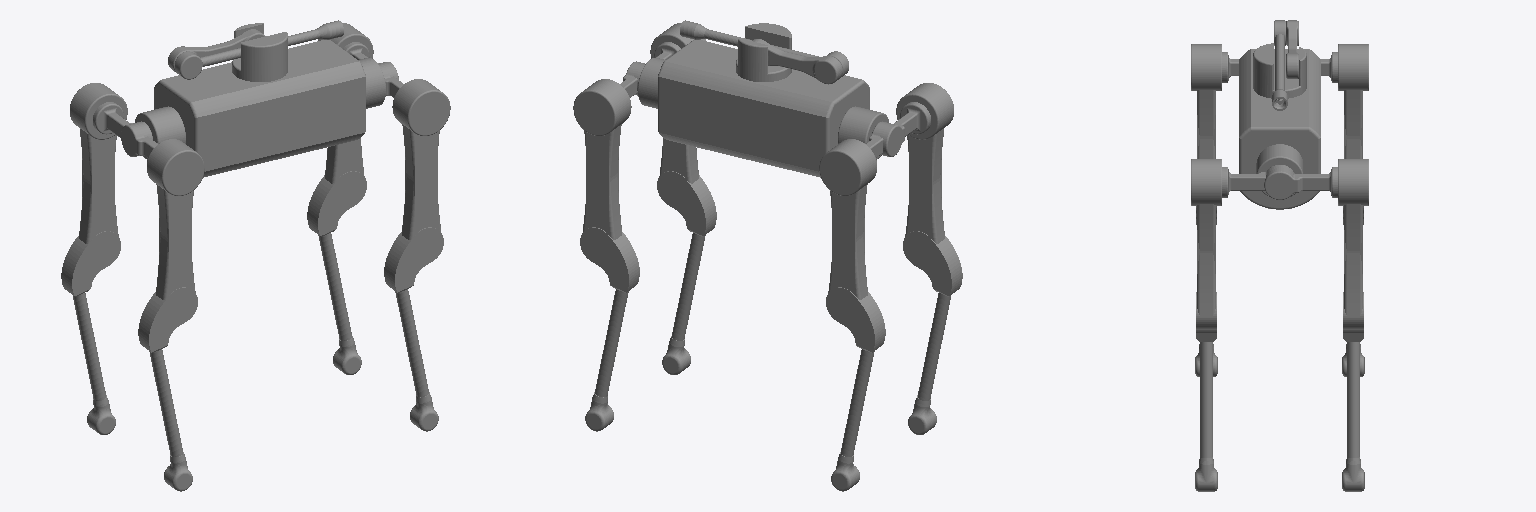
--- Facts derived from the render (not from the file) ---
Views: 3 orthographic renders of the robot side by side, from view 1: azimuth 30°, elevation 25°; view 2: azimuth 150°, elevation 25°; view 3: azimuth 270°, elevation 25°.
Model argos with 25 links and 24 joints (12 revolute, 12 fixed), rooted at base_link, posed all joints at 0.
Links seen in each view (by area): view 1: base_link, RF_lower_leg, RH_lower_leg, LF_lower_leg, LH_lower_leg, LH_upper_leg, RH_upper_leg, RF_upper_leg, RH_leg_roll, RF_leg_roll, LH_leg_roll, manipulator_base (+4 smaller); view 2: base_link, LF_lower_leg, LH_lower_leg, RF_lower_leg, RH_lower_leg, RH_upper_leg, LH_upper_leg, LF_upper_leg, RH_leg_roll, LH_leg_roll, LF_leg_roll, manipulator_base (+4 smaller); view 3: base_link, LF_leg_roll, LF_lower_leg, RF_lower_leg, RF_leg_roll, LF_upper_leg, RF_upper_leg, LH_leg_roll, RH_leg_roll, manipulator_base, LH_upper_leg, RH_upper_leg (+2 smaller).
Link boxes in pixels (x1=…): base_link: x1=135, y1=40, x2=385, y2=177; RF_lower_leg: x1=384, y1=227, x2=443, y2=431; RH_lower_leg: x1=138, y1=287, x2=197, y2=491; LF_lower_leg: x1=307, y1=171, x2=366, y2=374; LH_lower_leg: x1=61, y1=231, x2=120, y2=434; LH_upper_leg: x1=79, y1=129, x2=118, y2=243; RH_upper_leg: x1=156, y1=184, x2=195, y2=299; RF_upper_leg: x1=402, y1=124, x2=440, y2=239; RH_leg_roll: x1=121, y1=123, x2=204, y2=195; RF_leg_roll: x1=379, y1=63, x2=450, y2=135; LH_leg_roll: x1=70, y1=83, x2=152, y2=139; manipulator_base: x1=232, y1=23, x2=287, y2=81; base_link: x1=638, y1=40, x2=888, y2=177; LF_lower_leg: x1=580, y1=227, x2=639, y2=431; LH_lower_leg: x1=826, y1=287, x2=885, y2=491; RF_lower_leg: x1=657, y1=171, x2=716, y2=374; RH_lower_leg: x1=903, y1=231, x2=962, y2=434; RH_upper_leg: x1=905, y1=129, x2=944, y2=243; LH_upper_leg: x1=828, y1=184, x2=867, y2=299; LF_upper_leg: x1=583, y1=124, x2=621, y2=239; RH_leg_roll: x1=880, y1=83, x2=953, y2=156; LH_leg_roll: x1=819, y1=121, x2=888, y2=195; LF_leg_roll: x1=573, y1=61, x2=642, y2=135; manipulator_base: x1=736, y1=23, x2=791, y2=81; base_link: x1=1239, y1=49, x2=1320, y2=209; LF_leg_roll: x1=1264, y1=159, x2=1368, y2=205; LF_lower_leg: x1=1342, y1=292, x2=1364, y2=491; RF_lower_leg: x1=1195, y1=292, x2=1217, y2=491; RF_leg_roll: x1=1191, y1=159, x2=1294, y2=205; LF_upper_leg: x1=1344, y1=204, x2=1362, y2=316; RF_upper_leg: x1=1197, y1=204, x2=1215, y2=316; LH_leg_roll: x1=1321, y1=44, x2=1368, y2=90; RH_leg_roll: x1=1191, y1=44, x2=1238, y2=90; manipulator_base: x1=1253, y1=43, x2=1306, y2=98; LH_upper_leg: x1=1344, y1=90, x2=1362, y2=158; RH_upper_leg: x1=1197, y1=90, x2=1215, y2=158.
Bounding box of the posed robot: 1.05 × 0.5666 × 1.32 m (x, y, z).
Meshes: 8 distinct files referenced, 16 mesh visuals loaded (7 Collada DAE); not drawn: 1 (reference not matched to a file when rendering).

URDF robot description (argos):
<?xml version="1.0" ?>
<!-- =================================================================================== -->
<!-- |    This document was autogenerated by xacro from argos_depth.urdf.xacro         | -->
<!-- |    EDITING THIS FILE BY HAND IS NOT RECOMMENDED                                 | -->
<!-- =================================================================================== -->
<robot name="argos">
  <link name="base_link">
    <visual>
      <geometry>
        <mesh filename="package://mini_project/meshes/body.dae" scale="0.001 0.001 0.001"/>
      </geometry>
      <origin rpy="1.570796326794895 0 0" xyz="0.0 0.0 0.0"/>
    </visual>
    <collision>
      <geometry>
        <mesh filename="package://mini_project/meshes/body.dae" scale="0.001 0.001 0.001"/>
      </geometry>
      <origin rpy="1.570796326794895 0 0" xyz="0.0 0.0 0.0"/>
    </collision>
  </link>
  <link name="base_inertia">
    <inertial>
      <origin xyz="0 0 -0.00722624877"/>
      <mass value="44.88560357849"/>
      <inertia ixx="0.4733117048862877" ixy="-1.187694189e-08" ixz="3e-17" iyy="1.9296460018476334" iyz="-2e-17" izz="1.8898459005293233"/>
    </inertial>
  </link>
  <joint name="base_link_to_base_inertia" type="fixed">
    <parent link="base_link"/>
    <child link="base_inertia"/>
    <origin rpy="0 0 0" xyz="0 0 0"/>
  </joint>
  <material name="zed_mat">
    <color rgba="0.8 0.8 0.8 0.8"/>
  </material>
  <material name="zedm_mat">
    <color rgba="0 0 0 0.9"/>
  </material>
  <material name="zed2_mat">
    <color rgba="0.25 0.25 0.25 0.99"/>
  </material>
  <material name="zed2i_mat">
    <color rgba="0.25 0.25 0.25 0.99"/>
  </material>
  <!-- Arguments -->
  <!-- Camera Center -->
  <joint name="camera_center_joint" type="fixed">
    <parent link="base_link"/>
    <child link="camera_center"/>
    <origin rpy="0.0 0.0 0.0" xyz="0.31 0.0 -0.14"/>
  </joint>
  <link name="camera_center">
    <visual>
      <origin rpy="0 0 0" xyz="0 0 0"/>
      <geometry>
        <mesh filename="package://mini_project/meshes/zed2.stl"/>
      </geometry>
      <material name="zed2_mat"/>
    </visual>
  </link>
  <!-- Left Camera -->
  <joint name="left_camera_joint" type="fixed">
    <parent link="camera_center"/>
    <child link="left_camera_frame"/>
    <origin rpy="0 0 0" xyz="0 0.06 0"/>
  </joint>
  <link name="left_camera_frame"/>
  <joint name="left_camera_optical_joint" type="fixed">
    <origin rpy="-1.5707963267948966 0.0 -1.5707963267948966" xyz="0 0 0"/>
    <parent link="left_camera_frame"/>
    <child link="left_camera_optical_frame"/>
  </joint>
  <link name="left_camera_optical_frame"/>
  <gazebo reference="left_camera_frame">
    <sensor name="openni_camera_camera" type="depth">
      <always_on>1</always_on>
      <visualize>true</visualize>
      <camera>
        <horizontal_fov>1.91986218</horizontal_fov>
        <vertical_fov>1.22173048</vertical_fov>
        <diagonal_fov>2.0943951</diagonal_fov>
        <image>
          <width>1920</width>
          <height>1080</height>
          <format>R8G8B8</format>
        </image>
        <clip>
          <near>0.1</near>
          <far>25.0</far>
        </clip>
      </camera>
      <plugin filename="libgazebo_ros_openni_kinect.so" name="camera_plugin">
        <robotNamespace>argos</robotNamespace>
        <baseline>0.2</baseline>
        <alwaysOn>true</alwaysOn>
        <!-- Keep this zero, update_rate in the parent <sensor> tag
                will control the frame rate. -->
        <updateRate>0.0</updateRate>
        <cameraName>depth_camera</cameraName>
        <imageTopicName>/depth/image_rect_color</imageTopicName>
        <cameraInfoTopicName>/argos/depth/camera_info </cameraInfoTopicName>
        <depthImageTopicName>/argos/depth/depth_registered</depthImageTopicName>
        <depthImageCameraInfoTopicName>/argos/depth/image_raw/camera_info</depthImageCameraInfoTopicName>
        <pointCloudTopicName>/argos/depth/point_cloud/cloud_registered </pointCloudTopicName>
        <frameName>left_camera_optical_frame</frameName>
        <pointCloudCutoff>0.4</pointCloudCutoff>
        <!-- does nothing it seems
            <pointCloudCutoffMax>20.0</pointCloudCutoffMax> -->
        <distortionK1>0</distortionK1>
        <distortionK2>0</distortionK2>
        <distortionK3>0</distortionK3>
        <distortionT1>0</distortionT1>
        <distortionT2>0</distortionT2>
        <CxPrime>0</CxPrime>
        <Cx>0</Cx>
        <Cy>0</Cy>
        <focalLength>0</focalLength>
        <hackBaseline>0</hackBaseline>
      </plugin>
    </sensor>
    <sensor name="stereo_camera" type="multicamera">
      <update_rate>30.0</update_rate>
      <camera name="left">
        <horizontal_fov>1.91986218</horizontal_fov>
        <vertical_fov>1.22173048</vertical_fov>
        <diagonal_fov>2.0943951</diagonal_fov>
        <image>
          <width>1920</width>
          <height>1080</height>
          <format>R8G8B8</format>
        </image>
        <clip>
          <near>0.02</near>
          <far>300</far>
        </clip>
        <noise>
          <type>gaussian</type>
          <mean>0.0</mean>
          <stddev>0.004</stddev>
        </noise>
      </camera>
      <camera name="right">
        <pose>0 -0.12 0 0 0 0</pose>
        <horizontal_fov>1.91986218</horizontal_fov>
        <vertical_fov>1.22173048</vertical_fov>
        <diagonal_fov>2.0943951</diagonal_fov>
        <image>
          <width>1920</width>
          <height>1080</height>
          <format>R8G8B8</format>
        </image>
        <clip>
          <near>0.02</near>
          <far>300</far>
        </clip>
        <noise>
          <type>gaussian</type>
          <mean>0.0</mean>
          <stddev>0.004</stddev>
        </noise>
      </camera>
      <plugin filename="libgazebo_ros_multicamera.so" name="stereo_camera_controller">
        <robotNamespace>argos</robotNamespace>
        <alwaysOn>true</alwaysOn>
        <updateRate>0.0</updateRate>
        <cameraName>camera</cameraName>
        <imageTopicName>image_raw</imageTopicName>
        <cameraInfoTopicName>camera_info</cameraInfoTopicName>
        <frameName>left_camera_optical_frame</frameName>
        <!--<rightFrameName>right_camera_optical_frame</rightFrameName>-->
        <hackBaseline>0.12</hackBaseline>
        <distortionK1>0.0</distortionK1>
        <distortionK2>0.0</distortionK2>
        <distortionK3>0.0</distortionK3>
        <distortionT1>0.0</distortionT1>
        <distortionT2>0.0</distortionT2>
      </plugin>
    </sensor>
  </gazebo>
  <gazebo>
    <plugin filename="libhector_gazebo_ros_imu.so" name="imu_controller">
      <updateRate>50.0</updateRate>
      <bodyName>imu_link</bodyName>
      <topicName>imu/data</topicName>
      <accelDrift>0.005 0.005 0.005</accelDrift>
      <frameId>argos/base_link</frameId>
      <accelGaussianNoise>0.005 0.005 0.005</accelGaussianNoise>
      <rateDrift>0.005 0.005 0.005 </rateDrift>
      <rateGaussianNoise>0.005 0.005 0.005 </rateGaussianNoise>
      <headingDrift>0.005</headingDrift>
      <headingGaussianNoise>0.005</headingGaussianNoise>
    </plugin>
  </gazebo>
  <link name="imu_link">
    <inertial>
      <mass value="0.001"/>
      <origin rpy="0 0 0" xyz="0 0 0"/>
      <inertia ixx="1e-09" ixy="0.0" ixz="0.0" iyy="1e-09" iyz="0.0" izz="1e-09"/>
    </inertial>
  </link>
  <joint name="imu_joint" type="fixed">
    <parent link="base_link"/>
    <child link="imu_link"/>
    <origin xyz="0.31 0.0 -0.12"/>
  </joint>
  <gazebo reference="base_link">
    <material>Gazebo/FlatBlack</material>
  </gazebo>
  <link name="LF_leg_roll">
    <inertial>
      <origin rpy="0 0 0" xyz="0.0016034699 0.19560047521 0.0"/>
      <mass value="2.33840380361"/>
      <inertia ixx="0.01771591024567954" ixy="-0.00071891013320325" ixz="5.15073e-11" iyy="0.00540298667216859" iyz="1.6635487e-10" izz="0.01761332943089841"/>
    </inertial>
    <visual>
      <geometry>
        <mesh filename="package://mini_project/meshes/thigh.dae" scale="0.001 0.001 0.001"/>
      </geometry>
      <origin rpy="1.570796326794895 0.0 1.570796326794895" xyz="0.0 0.0 0.0"/>
    </visual>
    <collision>
      <geometry>
        <mesh filename="package://mini_project/meshes/thigh.dae" scale="0.001 0.001 0.001"/>
      </geometry>
      <origin rpy="1.570796326794895 0.0 1.570796326794895" xyz="0.0 0.0 0.0"/>
    </collision>
  </link>
  <gazebo reference="LF_leg_roll">
    <material>Gazebo/Orange</material>
  </gazebo>
  <link name="LF_upper_leg">
    <inertial>
      <origin rpy="1.570796326794895 0 1.570796326794895" xyz="-1.2465e-07 8.927e-08 -0.19777343169"/>
      <mass value="2.90604711841"/>
      <inertia ixx="0.07057863001314926" ixy="2.7932686e-10" ixz="-3.7129365e-10" iyy="0.07214686311642775" iyz="-6.9735152e-09" izz="0.0031329294799625"/>
    </inertial>
    <visual>
      <geometry>
        <mesh filename="package://mini_project/meshes/upper_leg.dae" scale="0.001 0.001 0.001"/>
      </geometry>
      <origin rpy="1.570796326794895 -1.570796326794895 0" xyz="0.0 0.0 0.0"/>
    </visual>
    <collision>
      <geometry>
        <mesh filename="package://mini_project/meshes/upper_leg.dae" scale="0.001 0.001 0.001"/>
      </geometry>
      <origin rpy="1.570796326794895 -1.570796326794895 0" xyz="0.0 0.0 0.0"/>
    </collision>
  </link>
  <gazebo reference="LF_upper_leg">
    <material>Gazebo/Green</material>
  </gazebo>
  <link name="LF_lower_leg">
    <inertial>
      <origin rpy="0 -0.2 0" xyz="-0.05466888228 2.713e-08 -0.15386388146"/>
      <mass value="1.81736381294"/>
      <inertia ixx="0.0907939555791539" ixy="-1.255242645e-08" ixz="0.01304754928405628" iyy="0.0951071480397549" iyz="-6.39667712e-09" izz="0.00552232540194871"/>
    </inertial>
    <visual>
      <geometry>
        <mesh filename="package://mini_project/meshes/lower_leg.dae" scale="0.001 0.001 0.001"/>
      </geometry>
      <origin rpy="1.570796326794895 1.370796326794895 0" xyz="0 0.0 0"/>
    </visual>
    <collision>
      <geometry>
        <mesh filename="package://mini_project/meshes/lower_leg.dae" scale="0.001 0.001 0.001"/>
      </geometry>
      <origin rpy="1.570796326794895 1.370796326794895 0" xyz="0 0.0 0"/>
    </collision>
  </link>
  <gazebo reference="LF_lower_leg">
    <kp>100000.0</kp>
    <kd>1.0</kd>
    <mu1>1.0</mu1>
    <mu2>1.0</mu2>
    <maxVel>0.0</maxVel>
    <minDepth>0.001</minDepth>
    <material>Gazebo/Red</material>
  </gazebo>
  <link name="LF_foot"/>
  <joint name="LF_hip_joint" type="revolute">
    <parent link="base_link"/>
    <child link="LF_leg_roll"/>
    <axis xyz="1.0 0.0 0.0"/>
    <origin xyz="0.43 0.0 0.0"/>
    <limit effort="250" lower="-3.14159265358979" upper="3.14159265358979" velocity="5.0"/>
  </joint>
  <joint name="LF_upper_leg_joint" type="revolute">
    <parent link="LF_leg_roll"/>
    <child link="LF_upper_leg"/>
    <axis xyz="0.0 1.0  0.0"/>
    <origin xyz="0.0 0.233 0.0"/>
    <limit effort="250" lower="-3.14159265358979" upper="3.14159265358979" velocity="5.0"/>
  </joint>
  <joint name="LF_lower_leg_joint" type="revolute">
    <parent link="LF_upper_leg"/>
    <child link="LF_lower_leg"/>
    <axis xyz="0.0 1.0  0.0"/>
    <origin xyz="0.0 0.0 -0.45"/>
    <limit effort="250" lower="-3.14159265358979" upper="3.14159265358979" velocity="2.0"/>
  </joint>
  <joint name="LF_foot_joint" type="fixed">
    <parent link="LF_lower_leg"/>
    <child link="LF_foot"/>
    <origin xyz="0.0 0.0 -0.61"/>
  </joint>
  <gazebo reference="LF_hip_joint">
    <provideFeedback>true</provideFeedback>
  </gazebo>
  <gazebo reference="LF_upper_leg_joint">
    <provideFeedback>true</provideFeedback>
  </gazebo>
  <gazebo reference="LF_lower_leg_joint">
    <provideFeedback>true</provideFeedback>
  </gazebo>
  <transmission name="LF_hip_joint_trans">
    <type>transmission_interface/SimpleTransmission</type>
    <joint name="LF_hip_joint">
      <hardwareInterface>hardware_interface/EffortJointInterface</hardwareInterface>
    </joint>
    <actuator name="LF_hip_joint_motor">
      <mechanicalReduction>1</mechanicalReduction>
    </actuator>
  </transmission>
  <transmission name="LF_upper_leg_joint_trans">
    <type>transmission_interface/SimpleTransmission</type>
    <joint name="LF_upper_leg_joint">
      <hardwareInterface>hardware_interface/EffortJointInterface</hardwareInterface>
    </joint>
    <actuator name="LF_upper_leg_joint_motor">
      <mechanicalReduction>1</mechanicalReduction>
    </actuator>
  </transmission>
  <transmission name="LF_lower_leg_joint_trans">
    <type>transmission_interface/SimpleTransmission</type>
    <joint name="LF_lower_leg_joint">
      <hardwareInterface>hardware_interface/EffortJointInterface</hardwareInterface>
    </joint>
    <actuator name="LF_lower_joint_motor">
      <mechanicalReduction>1</mechanicalReduction>
    </actuator>
  </transmission>
  <link name="RF_leg_roll">
    <inertial>
      <origin rpy="0 0 0" xyz="-0.0016034699 -0.19560047521 0.0"/>
      <mass value="2.33840380361"/>
      <inertia ixx="0.01771591024567954" ixy="-0.00071891013320325" ixz="5.15073e-11" iyy="0.00540298667216859" iyz="1.6635487e-10" izz="0.01761332943089841"/>
    </inertial>
    <visual>
      <geometry>
        <mesh filename="package://mini_project/meshes/thigh.dae" scale="0.001 0.001 0.001"/>
      </geometry>
      <origin rpy="1.570796326794895 0.0 -1.570796326794895" xyz="0.0 0.0 0.0"/>
    </visual>
    <collision>
      <geometry>
        <mesh filename="package://mini_project/meshes/thigh.dae" scale="0.001 0.001 0.001"/>
      </geometry>
      <origin rpy="1.570796326794895 0.0 -1.570796326794895" xyz="0.0 0.0 0.0"/>
    </collision>
  </link>
  <gazebo reference="RF_leg_roll">
    <material>Gazebo/Orange</material>
  </gazebo>
  <link name="RF_upper_leg">
    <inertial>
      <origin rpy="1.570796326794895 0 1.570796326794895" xyz="-1.2465e-07 8.927e-08 -0.19777343169"/>
      <mass value="2.90604711841"/>
      <inertia ixx="0.07057863001314926" ixy="-2.7932686e-10" ixz="-3.7129365e-10" iyy="0.07214686311642775" iyz="6.9735152e-09" izz="0.0031329294799625"/>
    </inertial>
    <visual>
      <geometry>
        <mesh filename="package://mini_project/meshes/upper_leg.dae" scale="0.001 0.001 0.001"/>
      </geometry>
      <origin rpy="1.570796326794895 -1.570796326794895 0" xyz="0.0 0.0 0.0"/>
    </visual>
    <collision>
      <geometry>
        <mesh filename="package://mini_project/meshes/upper_leg.dae" scale="0.001 0.001 0.001"/>
      </geometry>
      <origin rpy="1.570796326794895 -1.570796326794895 0" xyz="0.0 0.0 0.0"/>
    </collision>
  </link>
  <gazebo reference="RF_upper_leg">
    <material>Gazebo/Green</material>
  </gazebo>
  <link name="RF_lower_leg">
    <inertial>
      <origin rpy="0 -0.2 0" xyz="-0.05466888228 2.713e-08 -0.15386388146"/>
      <mass value="1.81736381294"/>
      <inertia ixx="0.0907939555791539" ixy="-1.255242645e-08" ixz="0.01304754928405628" iyy="0.0951071480397549" iyz="-6.39667712e-09" izz="0.00552232540194871"/>
    </inertial>
    <visual>
      <geometry>
        <mesh filename="package://mini_project/meshes/lower_leg.dae" scale="0.001 0.001 0.001"/>
      </geometry>
      <origin rpy="1.570796326794895 1.370796326794895 0" xyz="0 0.0 0"/>
    </visual>
    <collision>
      <geometry>
        <mesh filename="package://mini_project/meshes/lower_leg.dae" scale="0.001 0.001 0.001"/>
      </geometry>
      <origin rpy="1.570796326794895 1.370796326794895 0" xyz="0 0.0 0"/>
    </collision>
  </link>
  <gazebo reference="RF_lower_leg">
    <kp>100000.0</kp>
    <kd>1.0</kd>
    <mu1>1.0</mu1>
    <mu2>1.0</mu2>
    <maxVel>0.0</maxVel>
    <minDepth>0.001</minDepth>
    <material>Gazebo/Red</material>
  </gazebo>
  <link name="RF_foot"/>
  <joint name="RF_hip_joint" type="revolute">
    <parent link="base_link"/>
    <child link="RF_leg_roll"/>
    <axis xyz="1.0 0.0 0.0"/>
    <origin xyz="0.43 0.0 0.0"/>
    <limit effort="250" lower="-3.14159265358979" upper="3.14159265358979" velocity="5.0"/>
  </joint>
  <joint name="RF_upper_leg_joint" type="revolute">
    <parent link="RF_leg_roll"/>
    <child link="RF_upper_leg"/>
    <axis xyz="0.0 1.0  0.0"/>
    <origin xyz="0.0 -0.233 0.0"/>
    <limit effort="250" lower="-3.14159265358979" upper="3.14159265358979" velocity="5.0"/>
  </joint>
  <joint name="RF_lower_leg_joint" type="revolute">
    <parent link="RF_upper_leg"/>
    <child link="RF_lower_leg"/>
    <axis xyz="0.0 1.0  0.0"/>
    <origin xyz="0.0 0.0 -0.45"/>
    <limit effort="250" lower="-3.14159265358979" upper="3.14159265358979" velocity="2.0"/>
  </joint>
  <joint name="RF_foot_joint" type="fixed">
    <parent link="RF_lower_leg"/>
    <child link="RF_foot"/>
    <origin xyz="0.0 0.0 -0.61"/>
  </joint>
  <gazebo reference="RF_hip_joint">
    <provideFeedback>true</provideFeedback>
  </gazebo>
  <gazebo reference="RF_upper_leg_joint">
    <provideFeedback>true</provideFeedback>
  </gazebo>
  <gazebo reference="RF_lower_leg_joint">
    <provideFeedback>true</provideFeedback>
  </gazebo>
  <transmission name="RF_hip_joint_trans">
    <type>transmission_interface/SimpleTransmission</type>
    <joint name="RF_hip_joint">
      <hardwareInterface>hardware_interface/EffortJointInterface</hardwareInterface>
    </joint>
    <actuator name="RF_hip_joint_motor">
      <mechanicalReduction>1</mechanicalReduction>
    </actuator>
  </transmission>
  <transmission name="RF_upper_leg_joint_trans">
    <type>transmission_interface/SimpleTransmission</type>
    <joint name="RF_upper_leg_joint">
      <hardwareInterface>hardware_interface/EffortJointInterface</hardwareInterface>
    </joint>
    <actuator name="RF_upper_leg_joint_motor">
      <mechanicalReduction>1</mechanicalReduction>
    </actuator>
  </transmission>
  <transmission name="RF_lower_leg_joint_trans">
    <type>transmission_interface/SimpleTransmission</type>
    <joint name="RF_lower_leg_joint">
      <hardwareInterface>hardware_interface/EffortJointInterface</hardwareInterface>
    </joint>
    <actuator name="RF_lower_joint_motor">
      <mechanicalReduction>1</mechanicalReduction>
    </actuator>
  </transmission>
  <link name="LH_leg_roll">
    <inertial>
      <origin rpy="0 0 0" xyz="0.0016034699 0.19560047521 0.0"/>
      <mass value="2.33840380361"/>
      <inertia ixx="0.01771591024567954" ixy="-0.00071891013320325" ixz="5.15073e-11" iyy="0.00540298667216859" iyz="1.6635487e-10" izz="0.01761332943089841"/>
    </inertial>
    <visual>
      <geometry>
        <mesh filename="package://mini_project/meshes/thigh.dae" scale="0.001 0.001 0.001"/>
      </geometry>
      <origin rpy="1.570796326794895 0.0 1.570796326794895" xyz="0.0 0.0 0.0"/>
    </visual>
    <collision>
      <geometry>
        <mesh filename="package://mini_project/meshes/thigh.dae" scale="0.001 0.001 0.001"/>
      </geometry>
      <origin rpy="1.570796326794895 0.0 1.570796326794895" xyz="0.0 0.0 0.0"/>
    </collision>
  </link>
  <gazebo reference="LH_leg_roll">
    <material>Gazebo/Orange</material>
  </gazebo>
  <link name="LH_upper_leg">
    <inertial>
      <origin rpy="1.570796326794895 0 1.570796326794895" xyz="-1.2465e-07 8.927e-08 -0.19777343169"/>
      <mass value="2.90604711841"/>
      <inertia ixx="0.07057863001314926" ixy="2.7932686e-10" ixz="-3.7129365e-10" iyy="0.07214686311642775" iyz="-6.9735152e-09" izz="0.0031329294799625"/>
    </inertial>
    <visual>
      <geometry>
        <mesh filename="package://mini_project/meshes/upper_leg.dae" scale="0.001 0.001 0.001"/>
      </geometry>
      <origin rpy="1.570796326794895 -1.570796326794895 0" xyz="0.0 0.0 0.0"/>
    </visual>
    <collision>
      <geometry>
        <mesh filename="package://mini_project/meshes/upper_leg.dae" scale="0.001 0.001 0.001"/>
      </geometry>
      <origin rpy="1.570796326794895 -1.570796326794895 0" xyz="0.0 0.0 0.0"/>
    </collision>
  </link>
  <gazebo reference="LH_upper_leg">
    <material>Gazebo/Green</material>
  </gazebo>
  <link name="LH_lower_leg">
    <inertial>
      <origin rpy="0 -0.2 0" xyz="-0.05466888228 2.713e-08 -0.15386388146"/>
      <mass value="1.81736381294"/>
      <inertia ixx="0.0907939555791539" ixy="-1.255242645e-08" ixz="0.01304754928405628" iyy="0.0951071480397549" iyz="-6.39667712e-09" izz="0.00552232540194871"/>
    </inertial>
    <visual>
      <geometry>
        <mesh filename="package://mini_project/meshes/lower_leg.dae" scale="0.001 0.001 0.001"/>
      </geometry>
      <origin rpy="1.570796326794895 1.370796326794895 0" xyz="0 0.0 0"/>
    </visual>
    <collision>
      <geometry>
        <mesh filename="package://mini_project/meshes/lower_leg.dae" scale="0.001 0.001 0.001"/>
      </geometry>
      <origin rpy="1.570796326794895 1.370796326794895 0" xyz="0 0.0 0"/>
    </collision>
  </link>
  <gazebo reference="LH_lower_leg">
    <kp>100000.0</kp>
    <kd>1.0</kd>
    <mu1>1.0</mu1>
    <mu2>1.0</mu2>
    <maxVel>0.0</maxVel>
    <minDepth>0.001</minDepth>
    <material>Gazebo/Red</material>
  </gazebo>
  <link name="LH_foot"/>
  <joint name="LH_hip_joint" type="revolute">
    <parent link="base_link"/>
    <child link="LH_leg_roll"/>
    <axis xyz="1.0 0.0 0.0"/>
    <origin xyz="-0.43 0.0 0.0"/>
    <limit effort="250" lower="-3.14159265358979" upper="3.14159265358979" velocity="5.0"/>
  </joint>
  <joint name="LH_upper_leg_joint" type="revolute">
    <parent link="LH_leg_roll"/>
    <child link="LH_upper_leg"/>
    <axis xyz="0.0 1.0  0.0"/>
    <origin xyz="0.0 0.233 0.0"/>
    <limit effort="250" lower="-3.14159265358979" upper="3.14159265358979" velocity="5.0"/>
  </joint>
  <joint name="LH_lower_leg_joint" type="revolute">
    <parent link="LH_upper_leg"/>
    <child link="LH_lower_leg"/>
    <axis xyz="0.0 1.0  0.0"/>
    <origin xyz="0.0 0.0 -0.45"/>
    <limit effort="250" lower="-3.14159265358979" upper="3.14159265358979" velocity="2.0"/>
  </joint>
  <joint name="LH_foot_joint" type="fixed">
    <parent link="LH_lower_leg"/>
    <child link="LH_foot"/>
    <origin xyz="0.0 0.0 -0.61"/>
  </joint>
  <gazebo reference="LH_hip_joint">
    <provideFeedback>true</provideFeedback>
  </gazebo>
  <gazebo reference="LH_upper_leg_joint">
    <provideFeedback>true</provideFeedback>
  </gazebo>
  <gazebo reference="LH_lower_leg_joint">
    <provideFeedback>true</provideFeedback>
  </gazebo>
  <transmission name="LH_hip_joint_trans">
    <type>transmission_interface/SimpleTransmission</type>
    <joint name="LH_hip_joint">
      <hardwareInterface>hardware_interface/EffortJointInterface</hardwareInterface>
    </joint>
    <actuator name="LH_hip_joint_motor">
      <mechanicalReduction>1</mechanicalReduction>
    </actuator>
  </transmission>
  <transmission name="LH_upper_leg_joint_trans">
    <type>transmission_interface/SimpleTransmission</type>
    <joint name="LH_upper_leg_joint">
      <hardwareInterface>hardware_interface/EffortJointInterface</hardwareInterface>
    </joint>
    <actuator name="LH_upper_leg_joint_motor">
      <mechanicalReduction>1</mechanicalReduction>
    </actuator>
  </transmission>
  <transmission name="LH_lower_leg_joint_trans">
    <type>transmission_interface/SimpleTransmission</type>
    <joint name="LH_lower_leg_joint">
      <hardwareInterface>hardware_interface/EffortJointInterface</hardwareInterface>
    </joint>
    <actuator name="LH_lower_joint_motor">
      <mechanicalReduction>1</mechanicalReduction>
    </actuator>
  </transmission>
  <link name="RH_leg_roll">
    <inertial>
      <origin rpy="0 0 0" xyz="-0.0016034699 -0.19560047521 0.0"/>
      <mass value="2.33840380361"/>
      <inertia ixx="0.01771591024567954" ixy="-0.00071891013320325" ixz="5.15073e-11" iyy="0.00540298667216859" iyz="1.6635487e-10" izz="0.01761332943089841"/>
    </inertial>
    <visual>
      <geometry>
        <mesh filename="package://mini_project/meshes/thigh.dae" scale="0.001 0.001 0.001"/>
      </geometry>
      <origin rpy="1.570796326794895 0.0 -1.570796326794895" xyz="0.0 0.0 0.0"/>
    </visual>
    <collision>
      <geometry>
        <mesh filename="package://mini_project/meshes/thigh.dae" scale="0.001 0.001 0.001"/>
      </geometry>
      <origin rpy="1.570796326794895 0.0 -1.570796326794895" xyz="0.0 0.0 0.0"/>
    </collision>
  </link>
  <gazebo reference="RH_leg_roll">
    <material>Gazebo/Orange</material>
  </gazebo>
  <link name="RH_upper_leg">
    <inertial>
      <origin rpy="1.570796326794895 0 1.570796326794895" xyz="-1.2465e-07 8.927e-08 -0.19777343169"/>
      <mass value="2.90604711841"/>
      <inertia ixx="0.07057863001314926" ixy="-2.7932686e-10" ixz="-3.7129365e-10" iyy="0.07214686311642775" iyz="6.9735152e-09" izz="0.0031329294799625"/>
    </inertial>
    <visual>
      <geometry>
        <mesh filename="package://mini_project/meshes/upper_leg.dae" scale="0.001 0.001 0.001"/>
      </geometry>
      <origin rpy="1.570796326794895 -1.570796326794895 0" xyz="0.0 0.0 0.0"/>
    </visual>
    <collision>
      <geometry>
        <mesh filename="package://mini_project/meshes/upper_leg.dae" scale="0.001 0.001 0.001"/>
      </geometry>
      <origin rpy="1.570796326794895 -1.570796326794895 0" xyz="0.0 0.0 0.0"/>
    </collision>
  </link>
  <gazebo reference="RH_upper_leg">
    <material>Gazebo/Green</material>
  </gazebo>
  <link name="RH_lower_leg">
    <inertial>
      <origin rpy="0 -0.2 0" xyz="-0.05466888228 2.713e-08 -0.15386388146"/>
      <mass value="1.81736381294"/>
      <inertia ixx="0.0907939555791539" ixy="-1.255242645e-08" ixz="0.01304754928405628" iyy="0.0951071480397549" iyz="-6.39667712e-09" izz="0.00552232540194871"/>
    </inertial>
    <visual>
      <geometry>
        <mesh filename="package://mini_project/meshes/lower_leg.dae" scale="0.001 0.001 0.001"/>
      </geometry>
      <origin rpy="1.570796326794895 1.370796326794895 0" xyz="0 0.0 0"/>
    </visual>
    <collision>
      <geometry>
        <mesh filename="package://mini_project/meshes/lower_leg.dae" scale="0.001 0.001 0.001"/>
      </geometry>
      <origin rpy="1.570796326794895 1.370796326794895 0" xyz="0 0.0 0"/>
    </collision>
  </link>
  <gazebo reference="RH_lower_leg">
    <kp>100000.0</kp>
    <kd>1.0</kd>
    <mu1>1.0</mu1>
    <mu2>1.0</mu2>
    <maxVel>0.0</maxVel>
    <minDepth>0.001</minDepth>
    <material>Gazebo/Red</material>
  </gazebo>
  <link name="RH_foot"/>
  <joint name="RH_hip_joint" type="revolute">
    <parent link="base_link"/>
    <child link="RH_leg_roll"/>
    <axis xyz="1.0 0.0 0.0"/>
    <origin xyz="-0.43 0.0 0.0"/>
    <limit effort="250" lower="-3.14159265358979" upper="3.14159265358979" velocity="5.0"/>
  </joint>
  <joint name="RH_upper_leg_joint" type="revolute">
    <parent link="RH_leg_roll"/>
    <child link="RH_upper_leg"/>
    <axis xyz="0.0 1.0  0.0"/>
    <origin xyz="0.0 -0.233 0.0"/>
    <limit effort="250" lower="-3.14159265358979" upper="3.14159265358979" velocity="5.0"/>
  </joint>
  <joint name="RH_lower_leg_joint" type="revolute">
    <parent link="RH_upper_leg"/>
    <child link="RH_lower_leg"/>
    <axis xyz="0.0 1.0  0.0"/>
    <origin xyz="0.0 0.0 -0.45"/>
    <limit effort="250" lower="-3.14159265358979" upper="3.14159265358979" velocity="2.0"/>
  </joint>
  <joint name="RH_foot_joint" type="fixed">
    <parent link="RH_lower_leg"/>
    <child link="RH_foot"/>
    <origin xyz="0.0 0.0 -0.61"/>
  </joint>
  <gazebo reference="RH_hip_joint">
    <provideFeedback>true</provideFeedback>
  </gazebo>
  <gazebo reference="RH_upper_leg_joint">
    <provideFeedback>true</provideFeedback>
  </gazebo>
  <gazebo reference="RH_lower_leg_joint">
    <provideFeedback>true</provideFeedback>
  </gazebo>
  <transmission name="RH_hip_joint_trans">
    <type>transmission_interface/SimpleTransmission</type>
    <joint name="RH_hip_joint">
      <hardwareInterface>hardware_interface/EffortJointInterface</hardwareInterface>
    </joint>
    <actuator name="RH_hip_joint_motor">
      <mechanicalReduction>1</mechanicalReduction>
    </actuator>
  </transmission>
  <transmission name="RH_upper_leg_joint_trans">
    <type>transmission_interface/SimpleTransmission</type>
    <joint name="RH_upper_leg_joint">
      <hardwareInterface>hardware_interface/EffortJointInterface</hardwareInterface>
    </joint>
    <actuator name="RH_upper_leg_joint_motor">
      <mechanicalReduction>1</mechanicalReduction>
    </actuator>
  </transmission>
  <transmission name="RH_lower_leg_joint_trans">
    <type>transmission_interface/SimpleTransmission</type>
    <joint name="RH_lower_leg_joint">
      <hardwareInterface>hardware_interface/EffortJointInterface</hardwareInterface>
    </joint>
    <actuator name="RH_lower_joint_motor">
      <mechanicalReduction>1</mechanicalReduction>
    </actuator>
  </transmission>
  <link name="manipulator_base">
    <inertial>
      <origin xyz="0.0001195 -0.01132600777 0.04996291284 "/>
      <mass value="1.63291158"/>
      <inertia ixx="0.00592368152307" ixy="0.0" ixz="0.0" iyy="0.00455222665474" iyz="0.0" izz="0.00630165344962"/>
    </inertial>
    <visual>
      <geometry>
        <mesh filename="package://mini_project/meshes/manipulator_joint.dae" scale="0.001 0.001 0.001"/>
      </geometry>
    </visual>
    <collision>
      <geometry>
        <mesh filename="package://mini_project/meshes/manipulator_joint.dae" scale="0.001 0.001 0.001"/>
      </geometry>
    </collision>
  </link>
  <link name="manipulator_segment_1">
    <inertial>
      <origin rpy="0 0.0 0" xyz="-0.12499144985 0.00000184653 0.0"/>
      <mass value="0.65721313"/>
      <inertia ixx="0.00029149081721" ixy="0.0" ixz="0.0" iyy="0.00745356022911" iyz="0.0" izz="0.0073062230739"/>
    </inertial>
    <visual>
      <geometry>
        <mesh filename="package://mini_project/meshes/manipulator_segment_1.dae" scale="0.001 0.001 0.001"/>
      </geometry>
      <origin rpy="1.570796326794895 0.0 3.14159265358979" xyz="0.0 0.0 0.0"/>
    </visual>
    <collision>
      <geometry>
        <mesh filename="package://mini_project/meshes/manipulator_segment_1.dae" scale="0.001 0.001 0.001"/>
      </geometry>
      <origin rpy="1.570796326794895 0.0 3.14159265358979" xyz="0.0 0.0 0.0"/>
    </collision>
  </link>
  <link name="manipulator_segment_2">
    <inertial>
      <origin rpy="0 0 0.0" xyz="0.19438946797 0.0 0.00000001267"/>
      <mass value="0.45716422"/>
      <inertia ixx="0.00016867187941" ixy="0.0" ixz="0.0" iyy="0.02041441059327" iyz="0.0" izz="0.02036185070001"/>
    </inertial>
    <visual>
      <geometry>
        <mesh filename="package://mini_project/meshes/manipulator_segment_2.dae" scale="0.001 0.001 0.001"/>
      </geometry>
      <origin rpy="1.570796326794895 3.14159265358979 0.0" xyz="0.0 0.0 0.0"/>
    </visual>
    <collision>
      <geometry>
        <mesh filename="package://mini_project/meshes/manipulator_segment_2.dae" scale="0.001 0.001 0.001"/>
      </geometry>
      <origin rpy="1.570796326794895 3.14159265358979 0.0" xyz="0.0 0.0 0.0"/>
    </collision>
  </link>
  <joint name="base_link_to_manipulator_base" type="fixed">
    <parent link="base_link"/>
    <child link="manipulator_base"/>
    <origin xyz="0.0 0.0 0.13"/>
  </joint>
  <joint name="manipulator_base_to_manipulator_segment_1" type="fixed">
    <parent link="manipulator_base"/>
    <child link="manipulator_segment_1"/>
    <origin rpy="0 0 0" xyz="0.0 0.04 0.075"/>
  </joint>
  <joint name="manipulator_segment_1_to_manipulator_segment_2" type="fixed">
    <parent link="manipulator_segment_1"/>
    <child link="manipulator_segment_2"/>
    <origin rpy="0.0 0.0 0.0" xyz="-0.25 -0.04 0.0"/>
  </joint>
  <gazebo>
    <plugin filename="libgazebo_ros_p3d.so" name="p3d_base_controller">
      <alwaysOn>true</alwaysOn>
      <updateRate>50.0</updateRate>
      <bodyName>base_link</bodyName>
      <topicName>odom/ground_truth</topicName>
      <gaussianNoise>0.001</gaussianNoise>
      <frameName>world</frameName>
      <xyzOffsets>0 0 0</xyzOffsets>
      <rpyOffsets>0 0 0</rpyOffsets>
    </plugin>
  </gazebo>
  <gazebo>
    <plugin filename="libgazebo_ros_control.so" name="gazebo_ros_control">
      <legacyModeNS>true</legacyModeNS>
    </plugin>
  </gazebo>
</robot>
